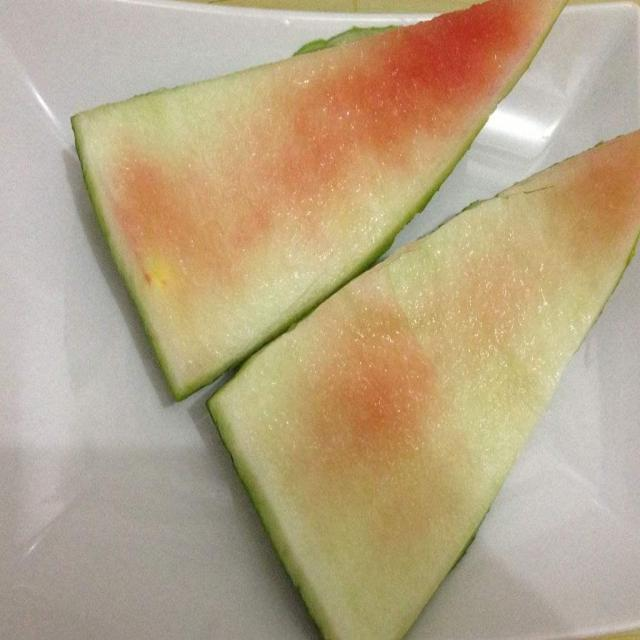-Kitchen waste - fruit-: (209, 135, 639, 634), (71, 0, 568, 387)
